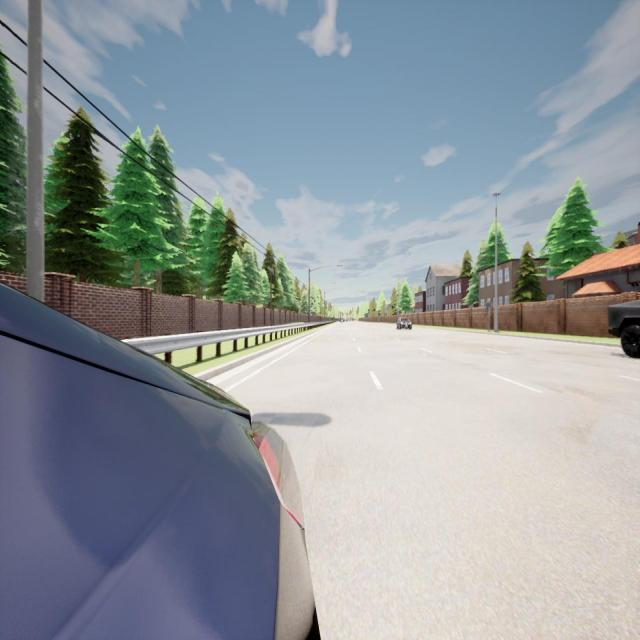Traffic_Signs: (486, 303, 491, 310)
Vehicle: (0, 284, 319, 637), (606, 295, 640, 356), (396, 318, 412, 330), (340, 318, 344, 323)
